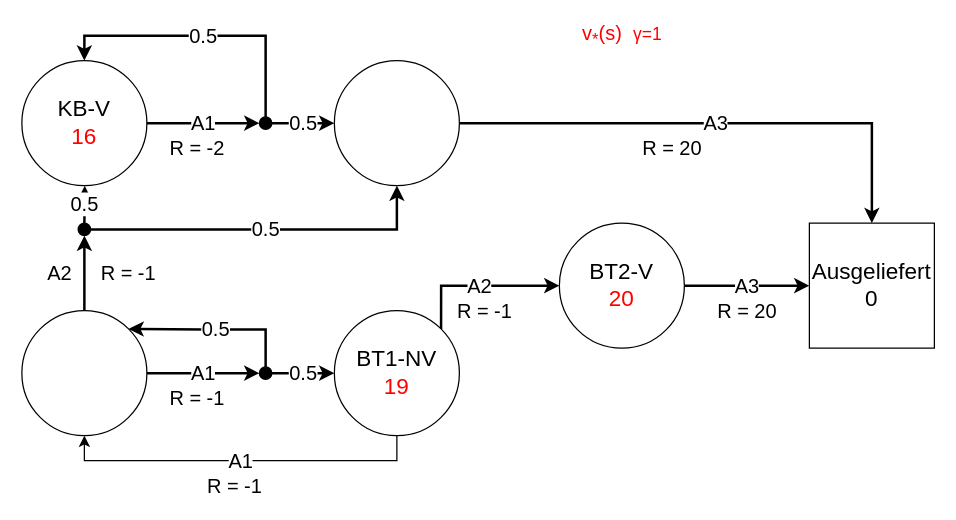
Some shapes in this 956 by 520 pixel diagram are drawn without their labels. The shapes that lost their labels are listed below. From the top down, each one's centre as x and y in pixels, then its label:
At point (396, 122): "BT1-V 20".
At point (84, 372): "KB-NV 17".
